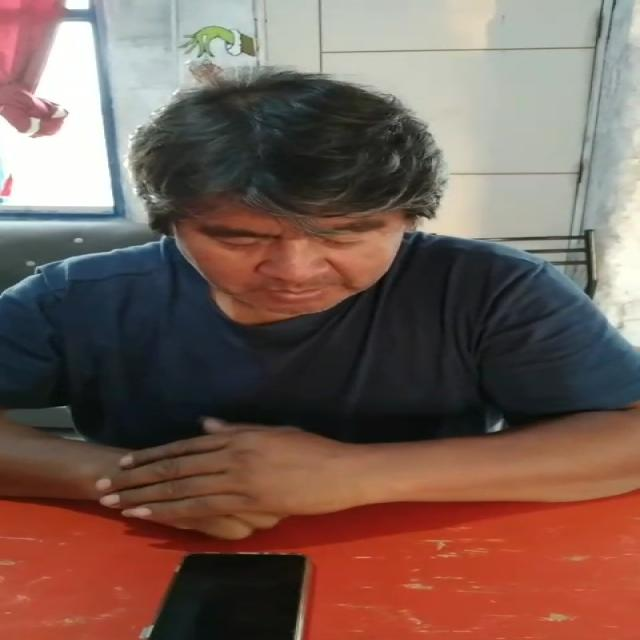9_cabeza_baja: (131, 72, 443, 316)
